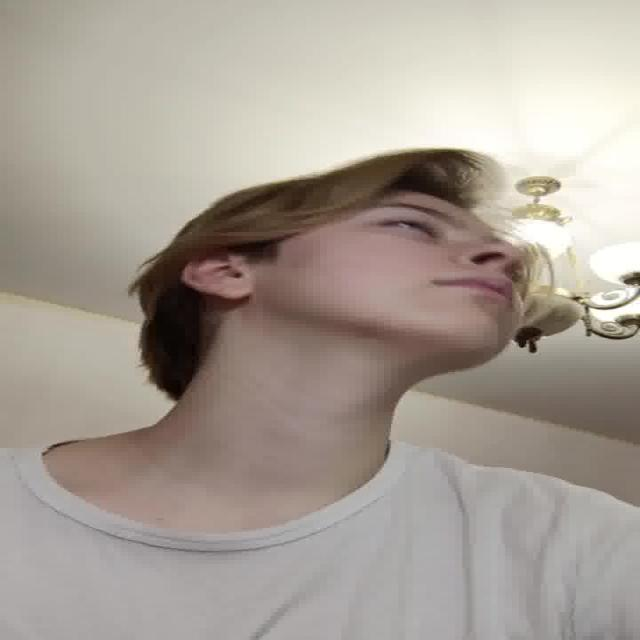earlobe: (179, 256, 255, 303)
